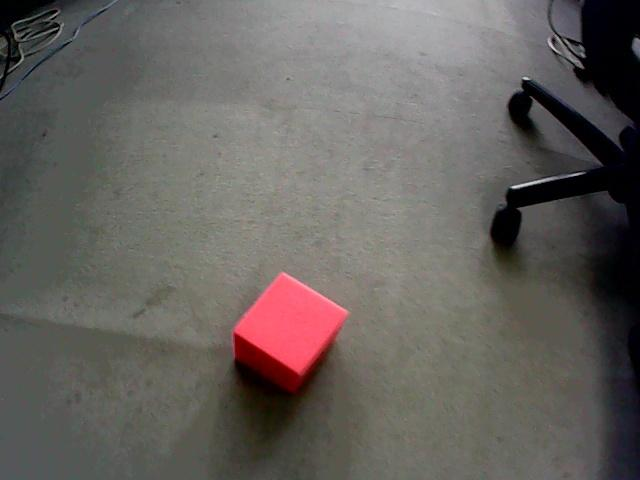red_block: (233, 273, 347, 392)
